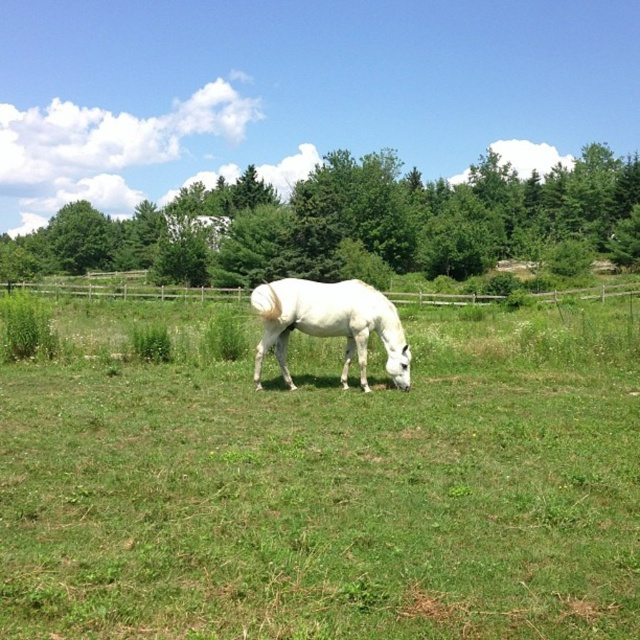Horse: (249, 273, 413, 393)
